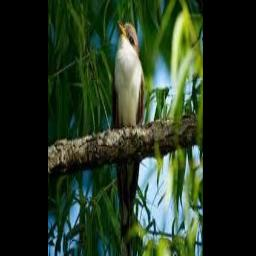Cuckoo: (113, 19, 145, 256)
